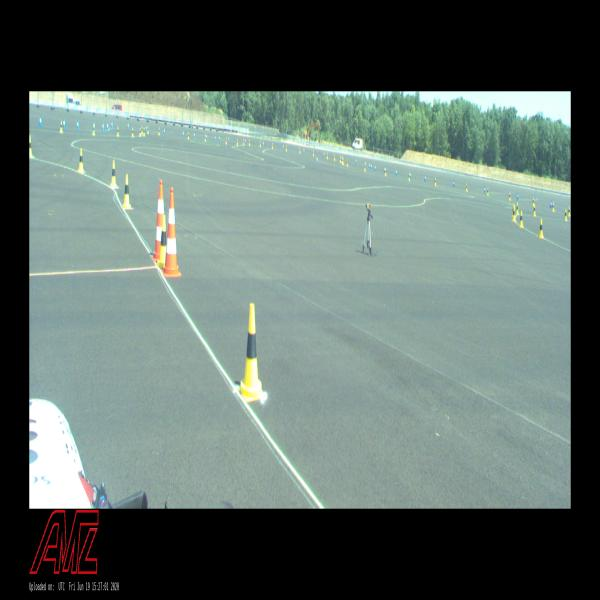blue_cone: (93, 121, 96, 132), (39, 116, 42, 126), (63, 119, 66, 129), (106, 120, 109, 130), (102, 121, 104, 131), (77, 120, 79, 129), (517, 192, 519, 201), (111, 120, 113, 128), (453, 179, 455, 187), (395, 169, 397, 177), (424, 174, 426, 182), (164, 128, 166, 135), (214, 134, 216, 141), (145, 125, 147, 132), (374, 164, 376, 171), (550, 201, 552, 208), (206, 134, 208, 141), (323, 151, 325, 157), (219, 136, 221, 142), (370, 164, 372, 170), (355, 158, 357, 164), (365, 161, 367, 167), (228, 136, 230, 142), (262, 141, 264, 146), (128, 122, 129, 130), (484, 185, 485, 193), (410, 171, 411, 179), (384, 165, 385, 173), (183, 130, 184, 137), (369, 162, 370, 169), (194, 132, 195, 139), (245, 138, 246, 144), (283, 145, 284, 150), (304, 148, 305, 153)
large_orange_cone: (161, 188, 182, 276), (151, 181, 164, 261)
yellow_cone: (238, 304, 263, 400), (158, 216, 167, 268), (123, 174, 131, 209), (110, 160, 117, 188), (78, 148, 84, 172), (538, 219, 544, 238), (29, 134, 33, 158), (519, 210, 523, 228), (511, 207, 516, 221), (59, 121, 63, 133), (92, 123, 96, 135), (512, 202, 515, 217), (516, 202, 519, 215), (564, 209, 567, 221), (533, 205, 536, 216), (131, 127, 134, 138), (568, 206, 571, 217), (552, 202, 555, 212), (143, 127, 146, 136), (434, 178, 437, 186), (465, 183, 468, 191), (532, 198, 535, 205), (117, 126, 119, 136), (508, 192, 510, 201), (408, 172, 410, 181), (158, 127, 160, 136), (147, 126, 149, 134), (364, 164, 366, 172), (141, 126, 143, 134), (139, 128, 141, 136), (225, 137, 227, 145), (341, 156, 343, 164), (342, 158, 344, 165), (486, 188, 488, 195), (346, 160, 348, 166), (299, 147, 301, 153), (188, 132, 189, 140), (385, 168, 386, 176), (237, 138, 238, 146), (205, 134, 206, 142), (327, 152, 328, 159), (340, 156, 341, 163), (249, 139, 250, 146), (334, 155, 335, 161), (260, 141, 261, 147), (243, 140, 244, 146), (272, 143, 273, 149), (286, 145, 287, 151), (313, 151, 314, 156)
